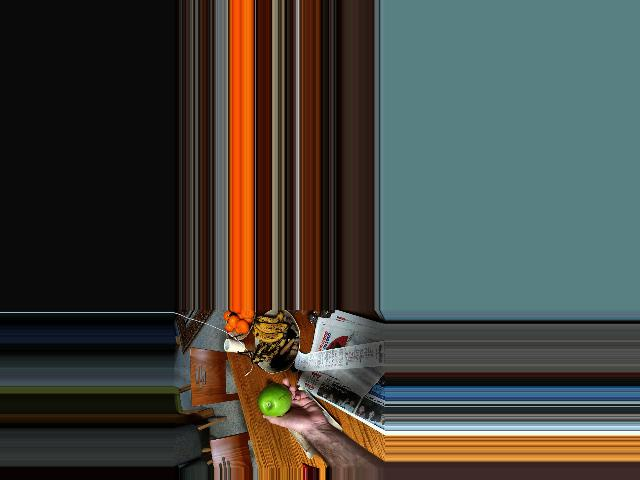apple: (257, 384, 293, 416)
